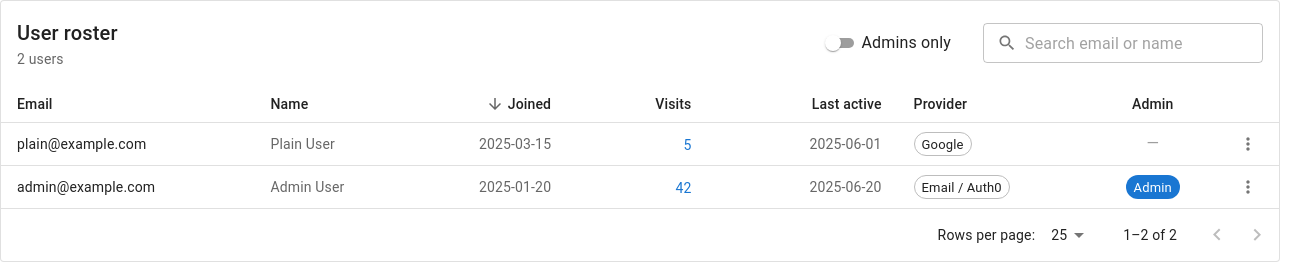
Scenario: UserRosterTable › filters the roster to admins only when the toggle is on, and restores when off
Expected: the text "plain@example.com" is shown, [1,123,254,166]
Expected: the text "admin@example.com" is shown, [1,166,254,209]
Click the switch labelled "Admins only".
click(886, 43)  # box [822,31,951,55]
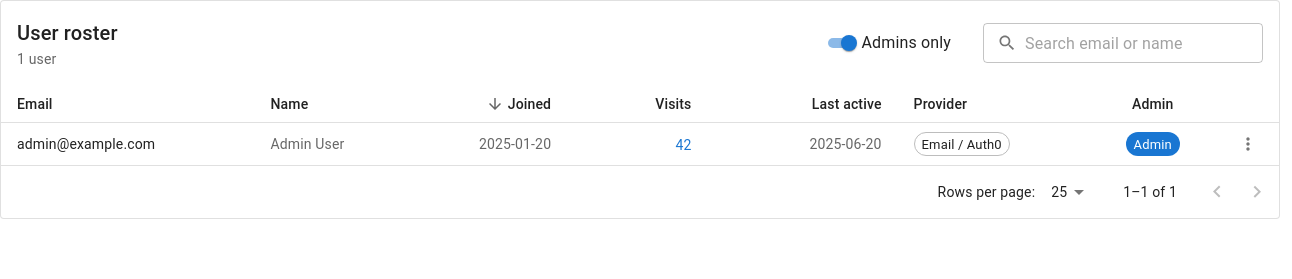
Expected: the text "admin@example.com" is shown, [1,123,254,166]
Expected: the text "plain@example.com" is gone
Expected: the text "1 user" is shown, [17,51,56,67]
// Toggle off — full roster restored.
Click the switch labelled "Admins only".
click(886, 43)  # box [822,31,951,55]
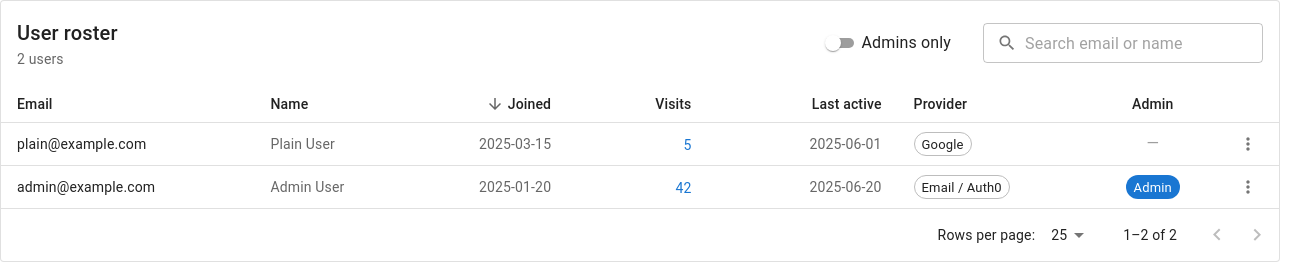
Expected: the text "admin@example.com" is shown, [1,166,254,209]
Expected: the text "plain@example.com" is shown, [1,123,254,166]
Expected: the text "2 users" is shown, [17,51,64,67]
